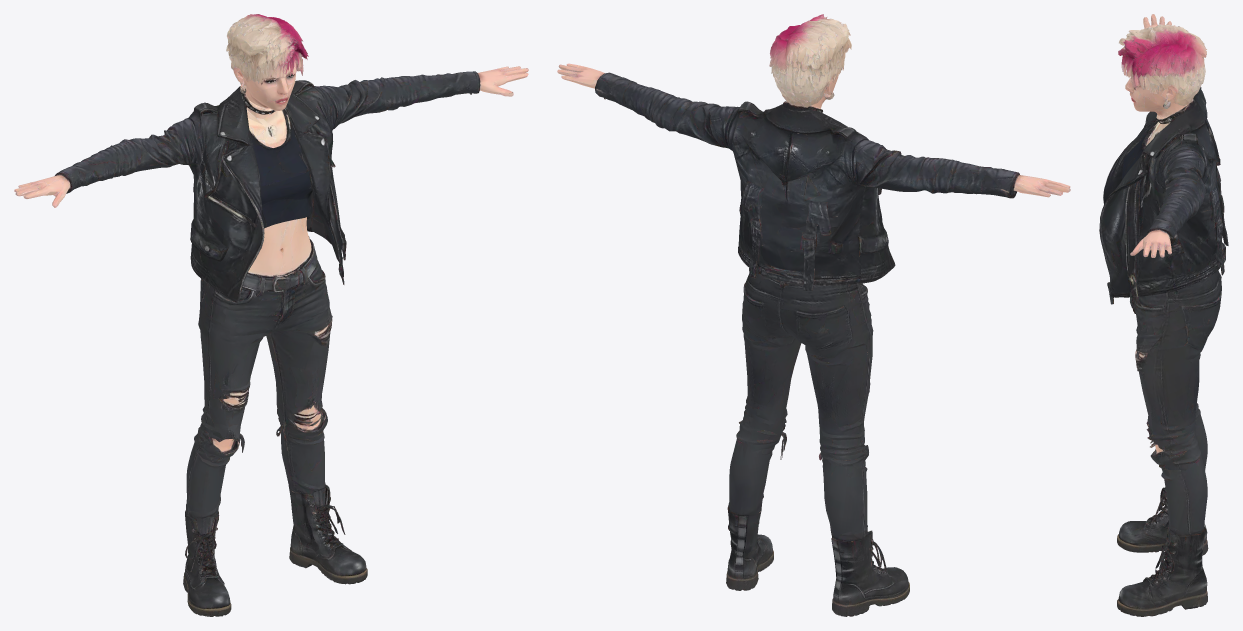
The model's file is ped_punk_rigin.glb.
3 views of the same model, side by side, from view 1: azimuth 30°, elevation 25°; view 2: azimuth 150°, elevation 25°; view 3: azimuth 270°, elevation 25° (orthographic). The views are drawn at different scales.
Parts seen in each view (by area): view 1: Mesh_0; view 2: Mesh_0; view 3: Mesh_0.
Part boxes in pixels (<box>): Mesh_0: <box>14,14,528,616</box>; Mesh_0: <box>557,14,1070,616</box>; Mesh_0: <box>1099,14,1228,616</box>.
Size of the model in its own units: 1.8 by 1.9 by 0.4061.
Materials: 1 (1 with a texture image).
